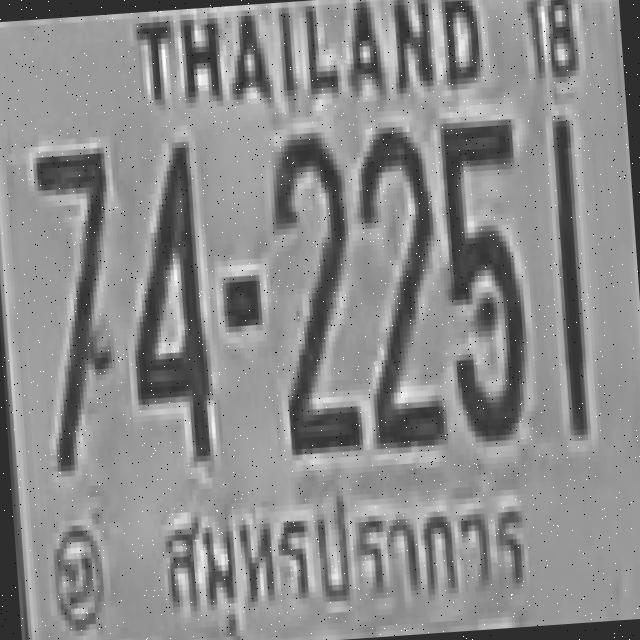1: (544, 114, 590, 436)
2: (264, 128, 362, 452), (348, 125, 445, 449), (266, 125, 358, 428), (351, 125, 443, 422)
4: (116, 136, 214, 460)
5: (434, 114, 531, 438)
7: (31, 144, 126, 468), (32, 148, 118, 372), (32, 144, 116, 348)
SamutPrakan: (143, 458, 552, 640)
